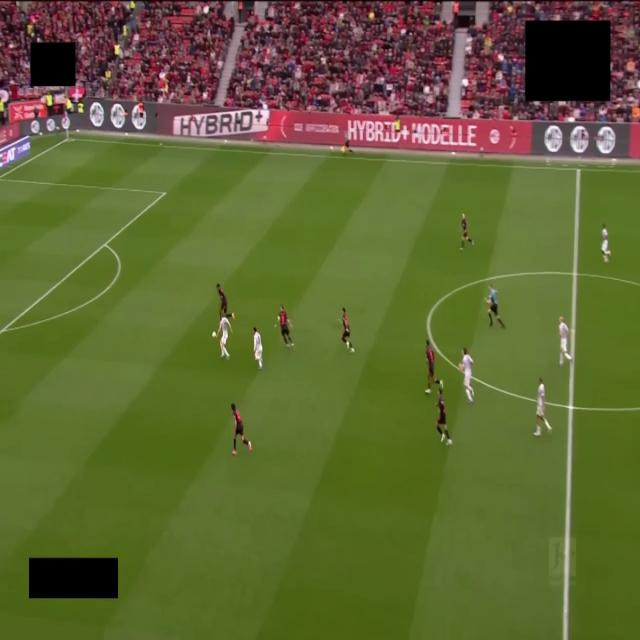ball: (212, 331, 215, 337)
player: (231, 403, 251, 455), (534, 377, 551, 436), (425, 340, 443, 394), (437, 389, 452, 446), (459, 348, 473, 403), (559, 317, 572, 366), (218, 315, 232, 359), (278, 306, 293, 346), (217, 284, 234, 319), (342, 307, 354, 352), (460, 213, 473, 250), (254, 328, 262, 369), (602, 224, 610, 263)
referee: (486, 285, 505, 327)
